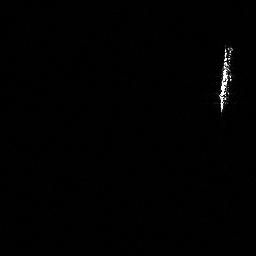ship: (213, 43, 235, 116)
